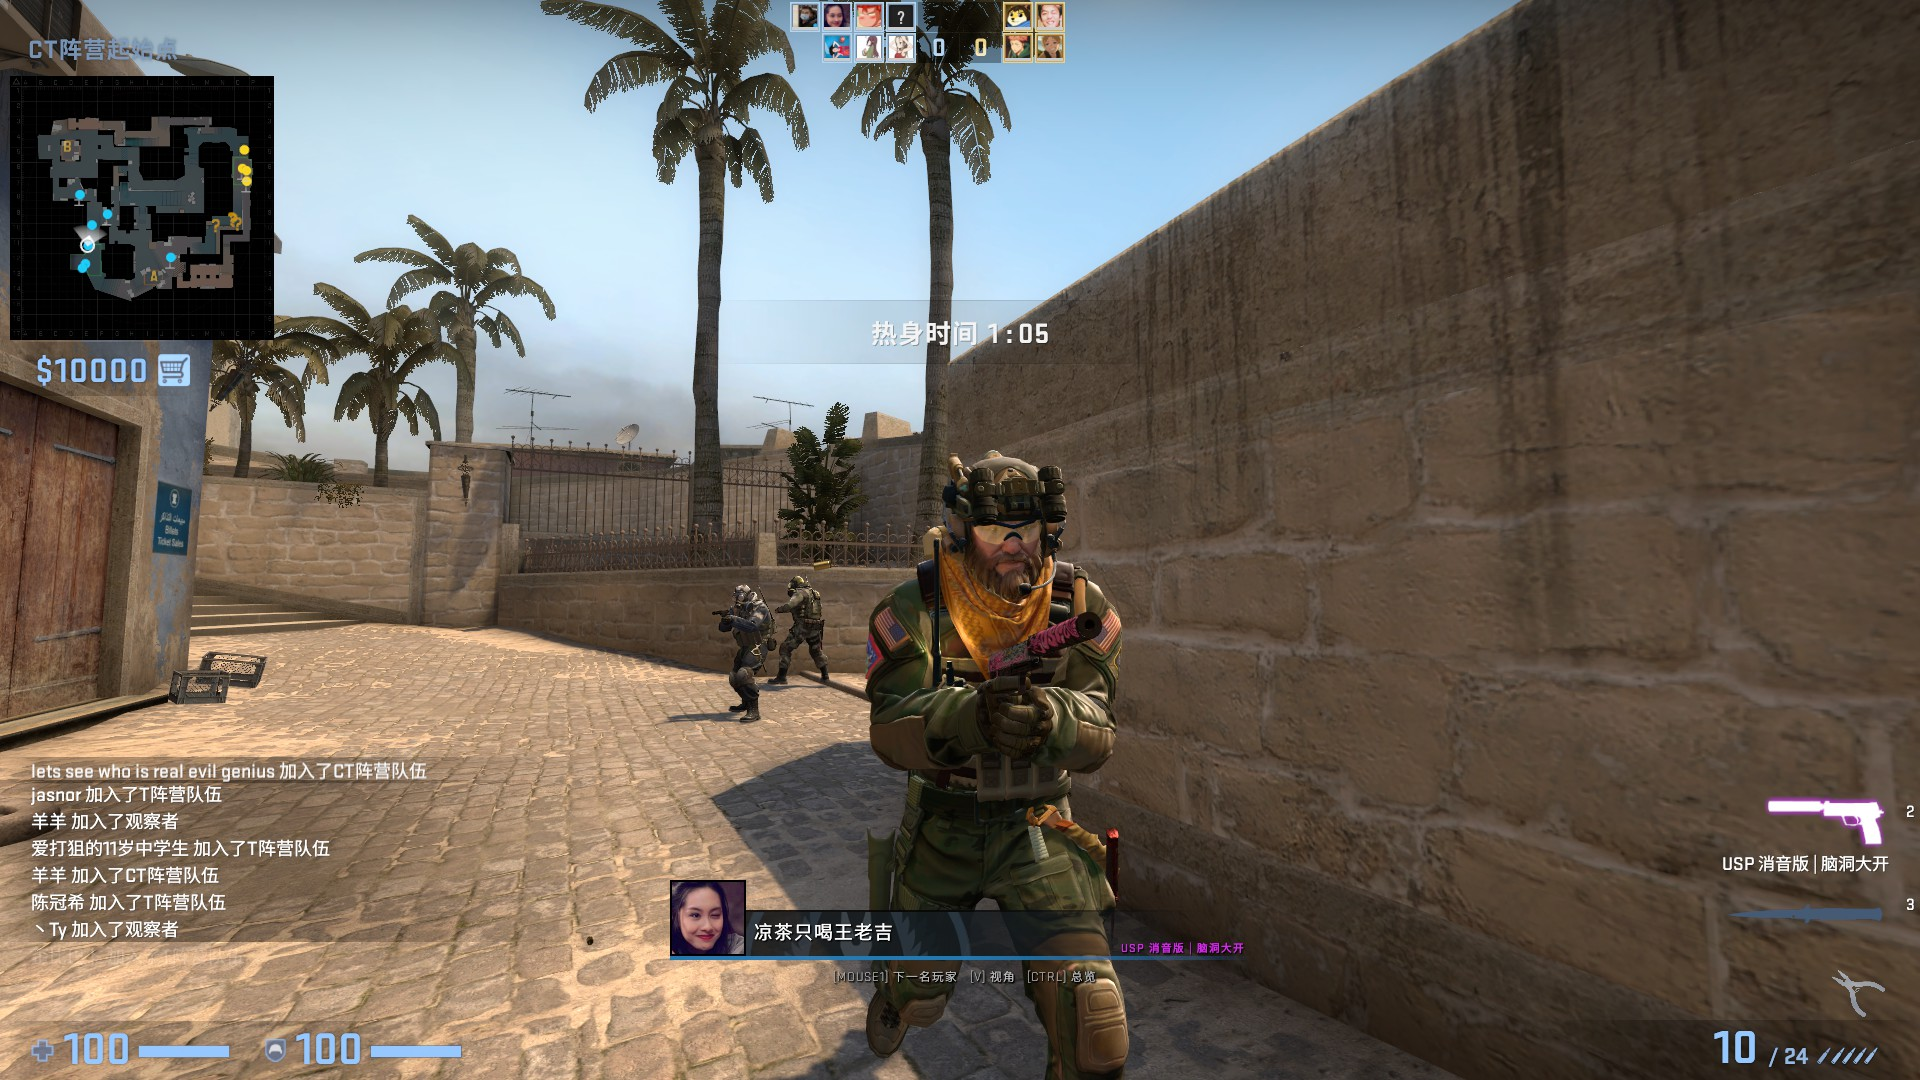head: (942, 448, 1073, 602), (731, 583, 754, 607), (785, 576, 808, 595)
